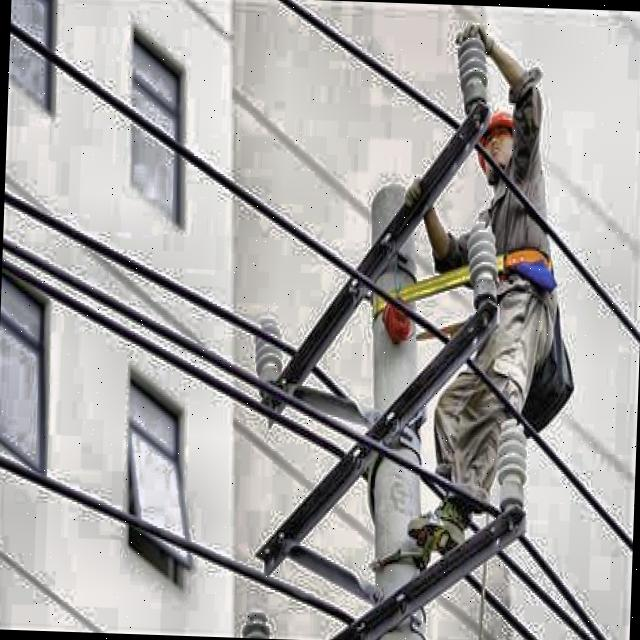helmet: (478, 102, 516, 168)
